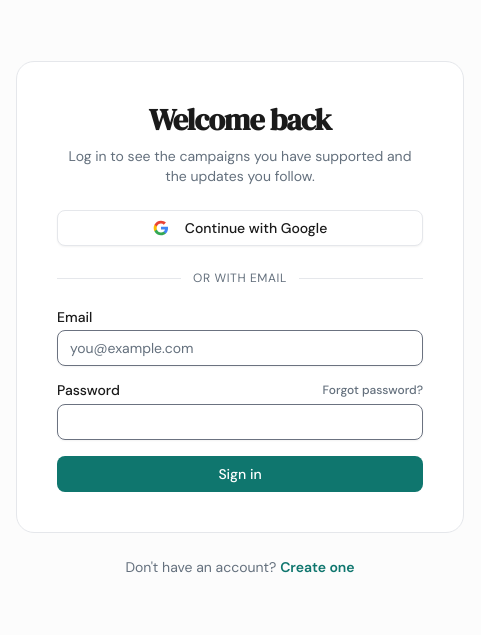
a server fault says the server is at fault › renders the transient message for @auth/core default code credentials
Type "someone@example.com" into the field labelled "Email" at point(240, 348), box [57,330,423,366]
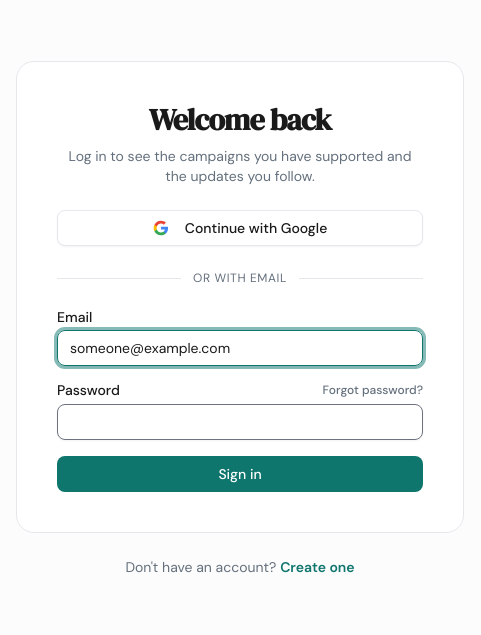
Type "whatever1" into the password field labelled "Password" at point(240, 422), box [57,404,423,440]
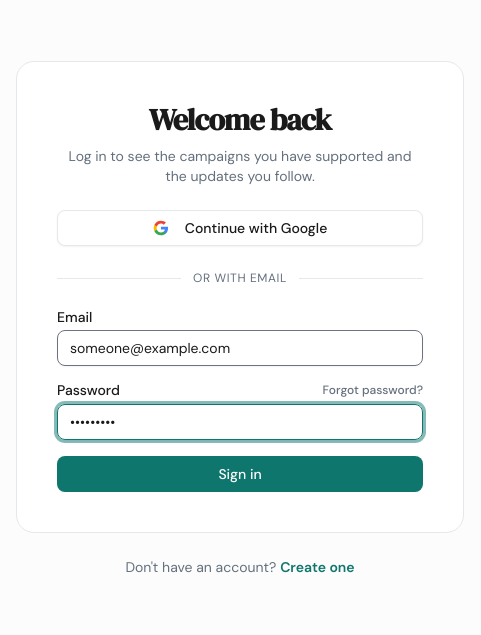
Click the button "Sign in" at point(240, 474), box [57,456,423,492]
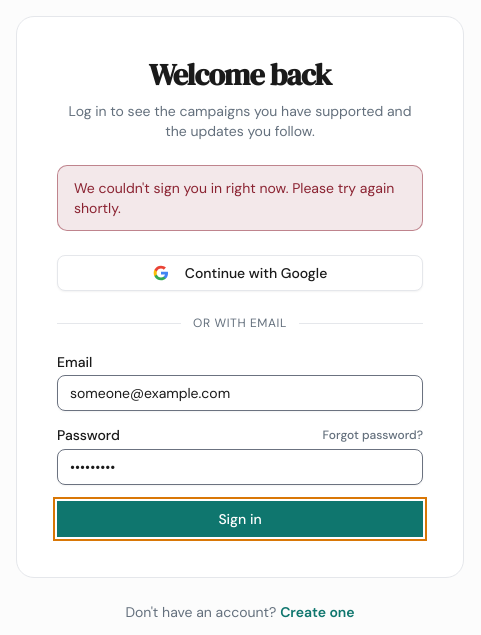
expect the message reads "We couldn't sign you in right now. Please try again shortly.": met, box [74,179,394,217]
